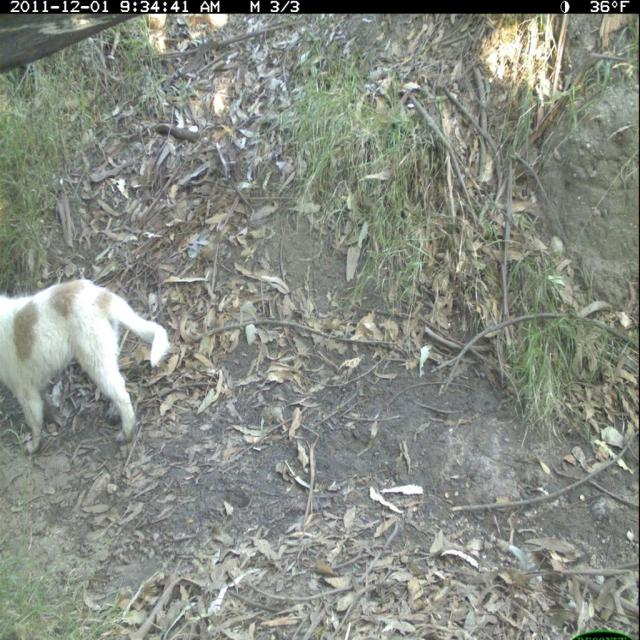dog: (1, 276, 177, 462)
